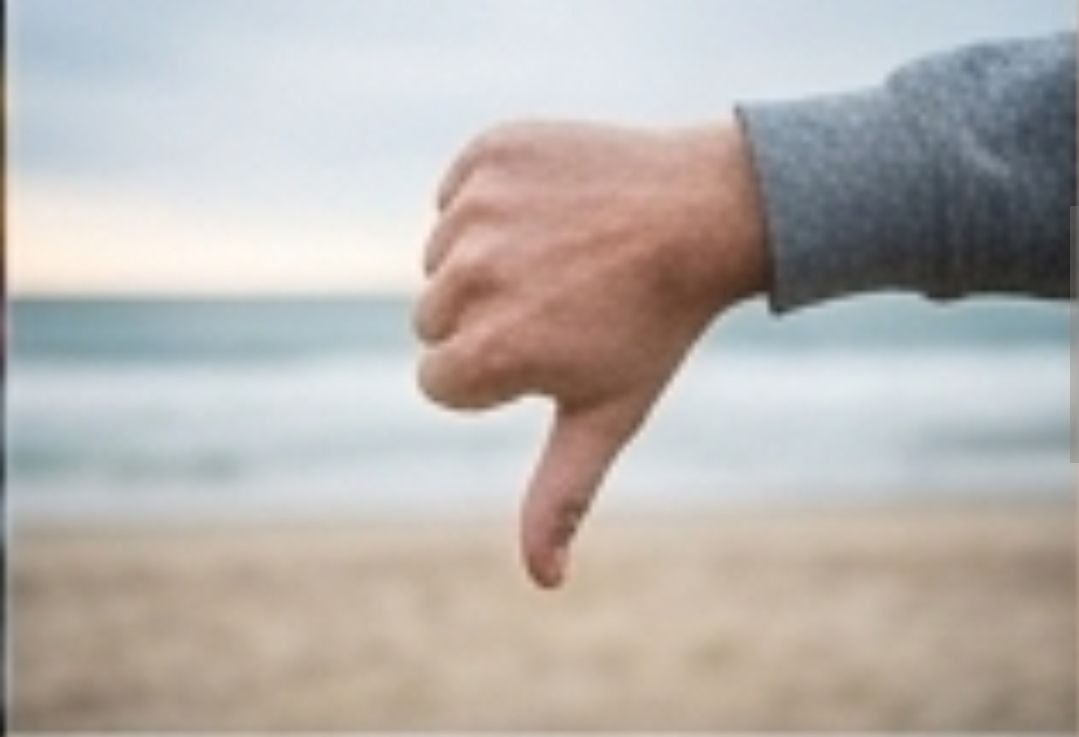Thumbs down: (400, 96, 872, 618)
